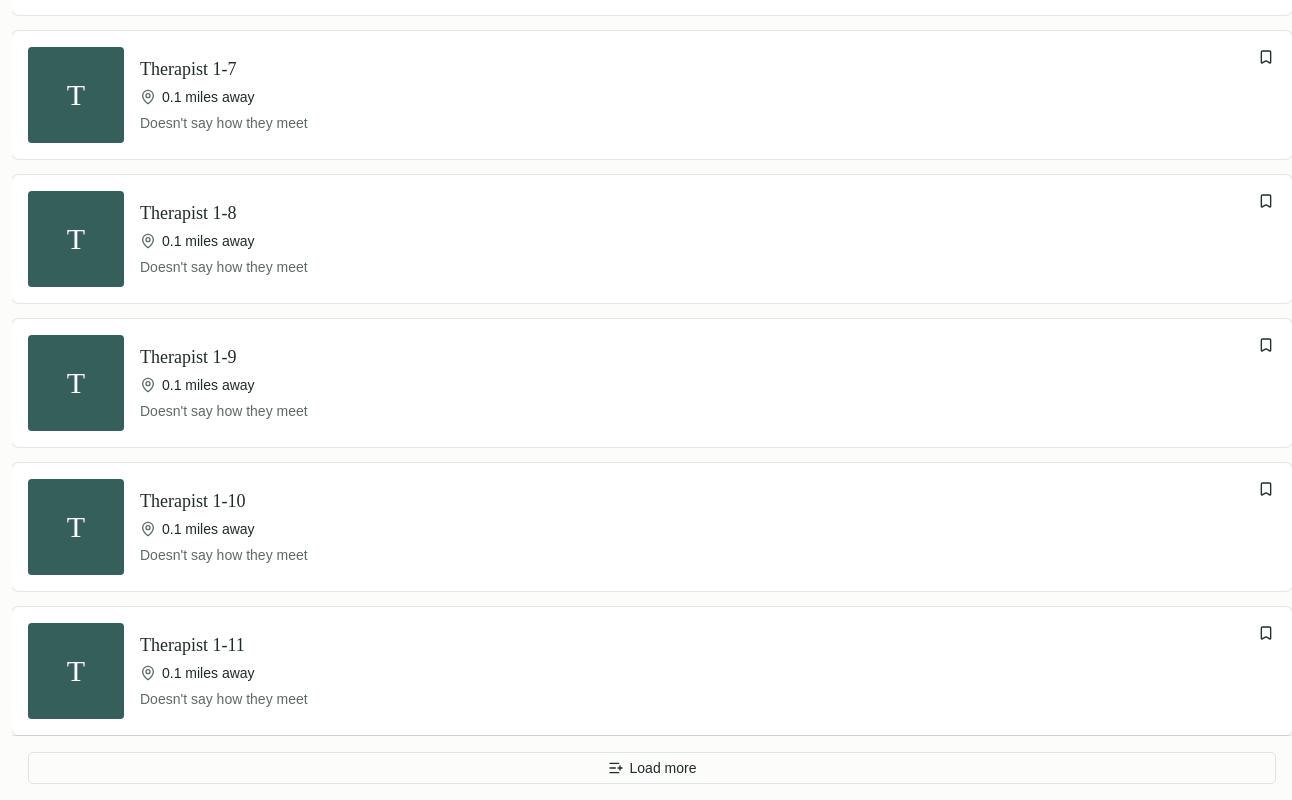
Scenario: Results › steps by the batches UKCP gives when it answers fewer than asked for
(page scrolled)
Click the button "Load more": (652, 768) [28,752,1276,784]
(page scrolled)
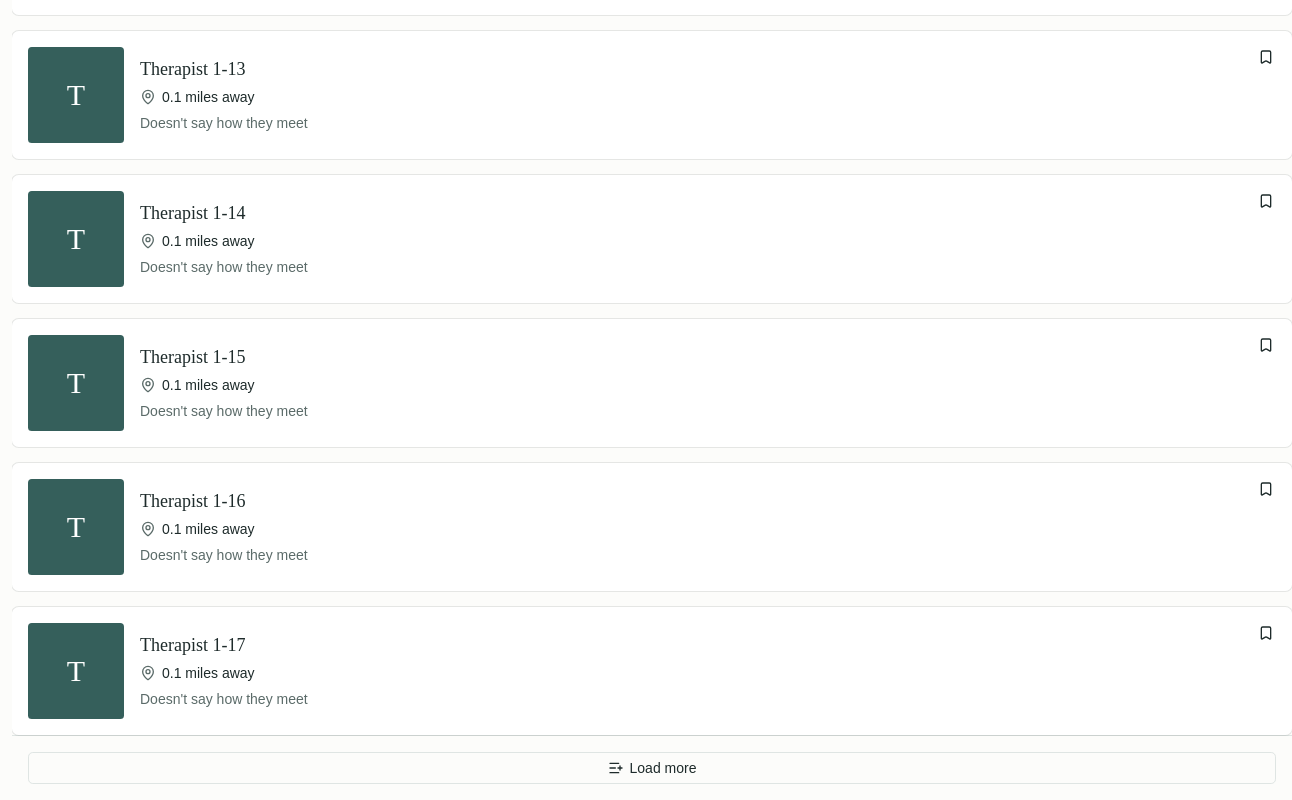
Click the button "Load more": (652, 768) [28,752,1276,784]
(page scrolled)
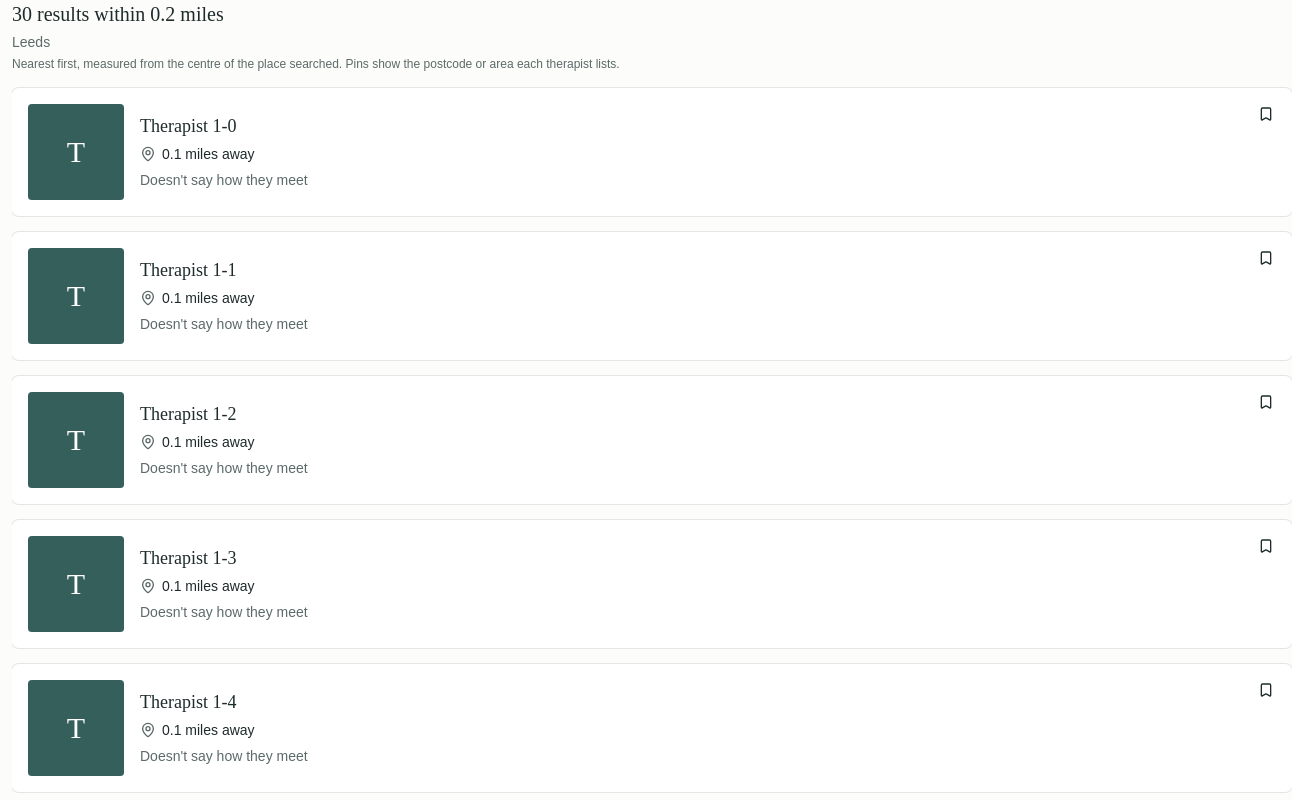
Now the heading "30 results within 0.2 miles" is shown, box [12,3,224,25]
Now the number of links "Therapist 1-0" is 30
